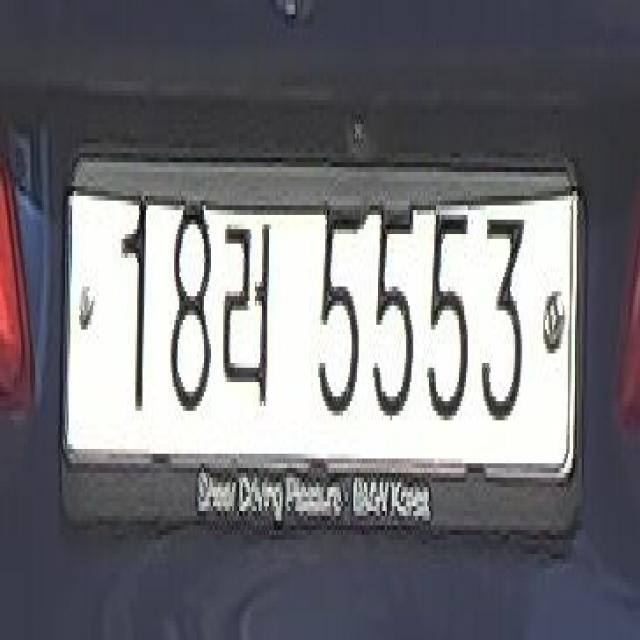1: (120, 187, 151, 420)
3: (477, 196, 528, 425)
5: (368, 177, 420, 420), (422, 182, 475, 420), (315, 182, 367, 420)
8: (167, 186, 216, 411)
leo: (218, 201, 273, 420)
license_plate: (55, 134, 589, 559)
